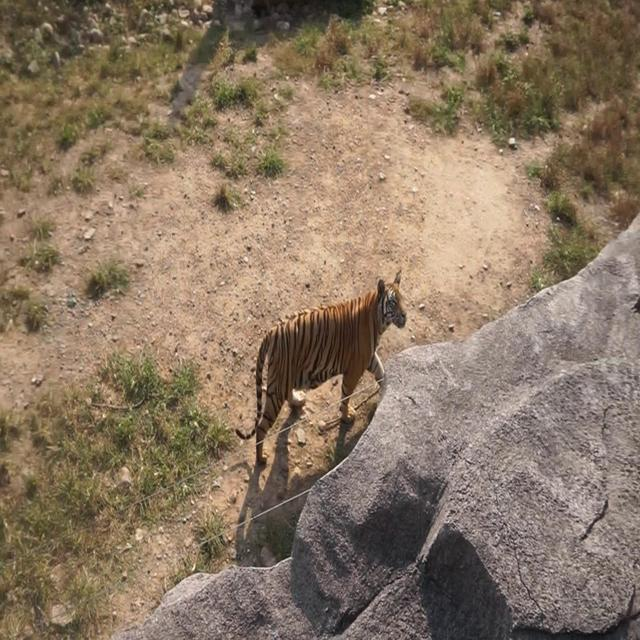tiger: (234, 268, 407, 466)
